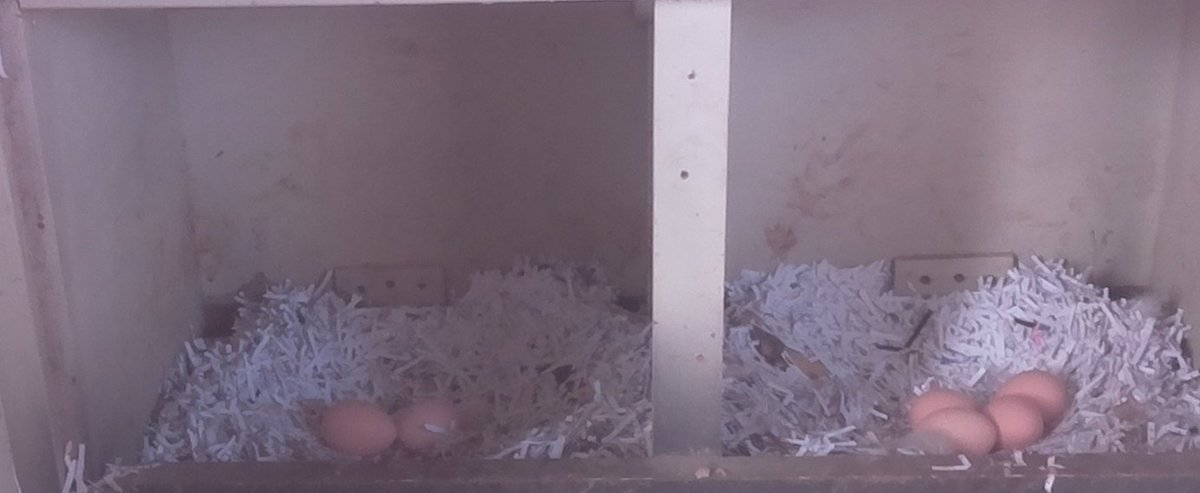egg: (313, 392, 398, 463), (910, 404, 1003, 464), (392, 395, 468, 459), (992, 367, 1078, 421), (983, 391, 1050, 452), (898, 383, 991, 424)
